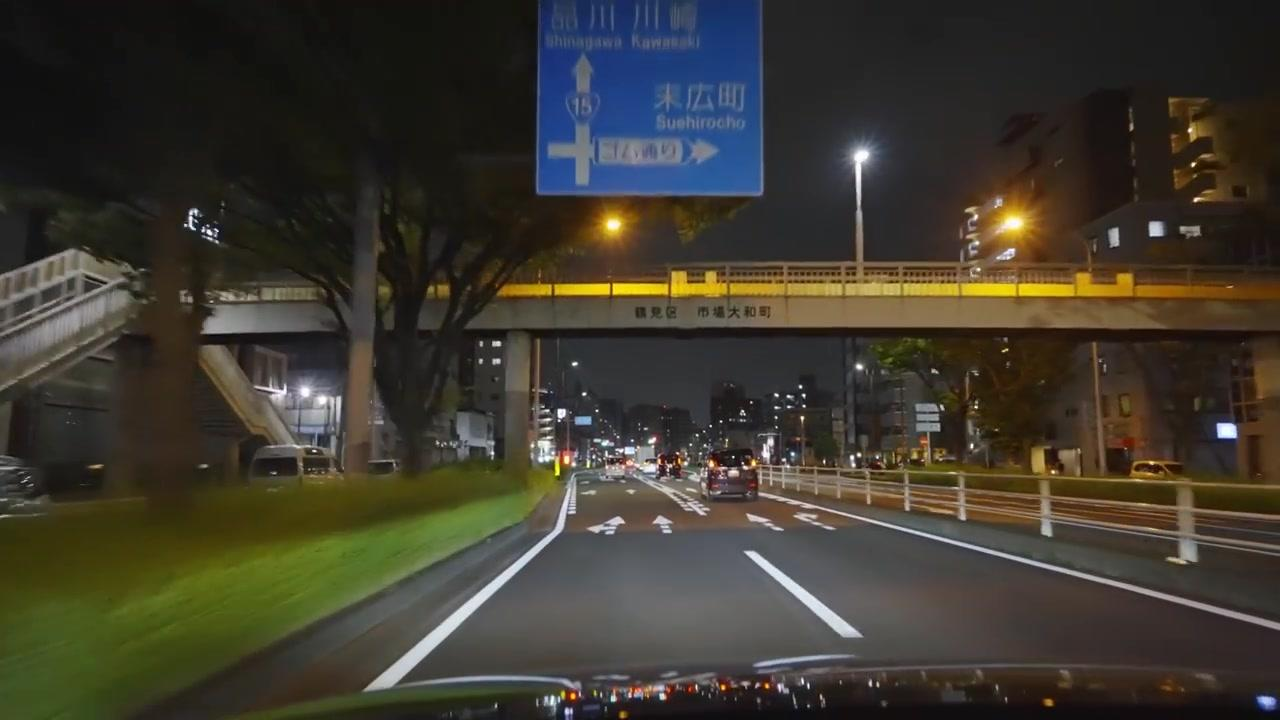car: (248, 445, 343, 489), (0, 454, 50, 515), (704, 458, 759, 501), (1129, 460, 1184, 479)
